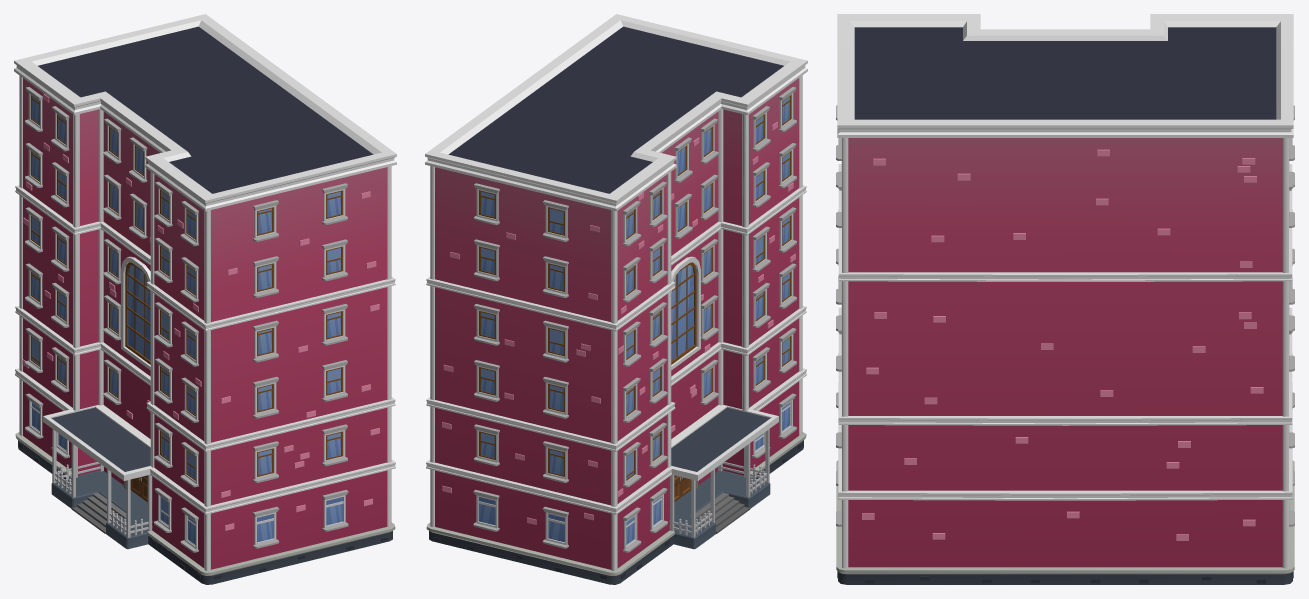
Rendered from Building_5_4_E.glb.
3 views of the same model, side by side, from view 1: azimuth 30°, elevation 25°; view 2: azimuth 150°, elevation 25°; view 3: azimuth 270°, elevation 25° (orthographic). The views are drawn at different scales.
Visible parts, largest first — view 1: Building_5_4_E; view 2: Building_5_4_E; view 3: Building_5_4_E.
Part boxes in pixels (<box>): Building_5_4_E: <box>14,14,396,584</box>; Building_5_4_E: <box>425,14,807,584</box>; Building_5_4_E: <box>836,14,1294,584</box>.
Size of the model in its own units: 12.51 by 21.09 by 19.08.
Materials: 3 (3 with a texture image).
